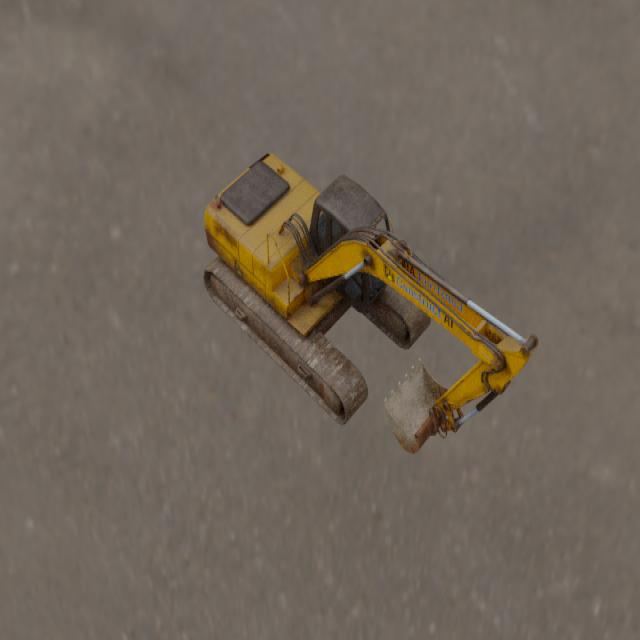excavator: (202, 152, 538, 453)
